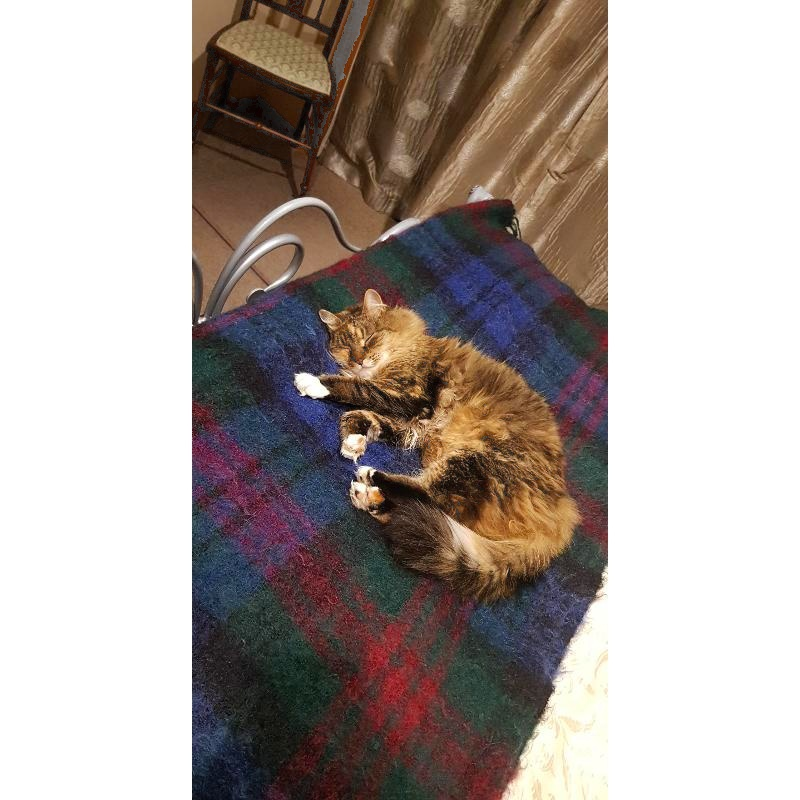yellow: (292, 286, 582, 592)
